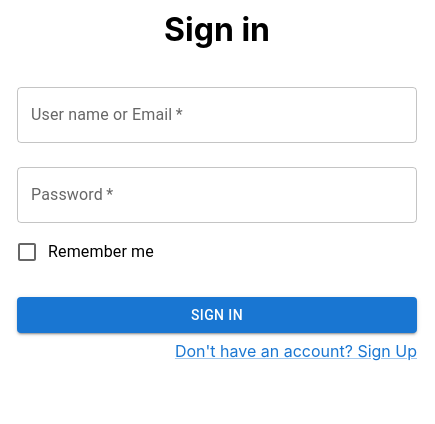
Test: SignIn Screen › email field › show 1 error message for email field when submited with empty email
Click the button with test id "btn-submit".
click(217, 315)  # box [17,297,417,333]
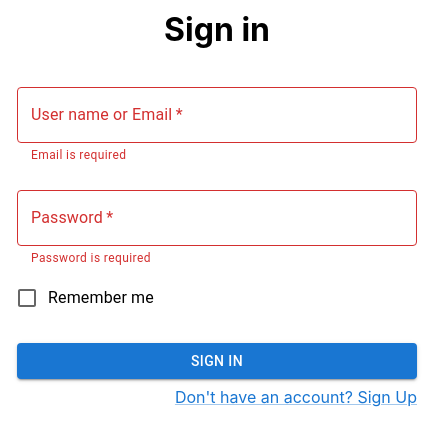
Check: the text "Email is required" is shown, box [31,148,126,162]
